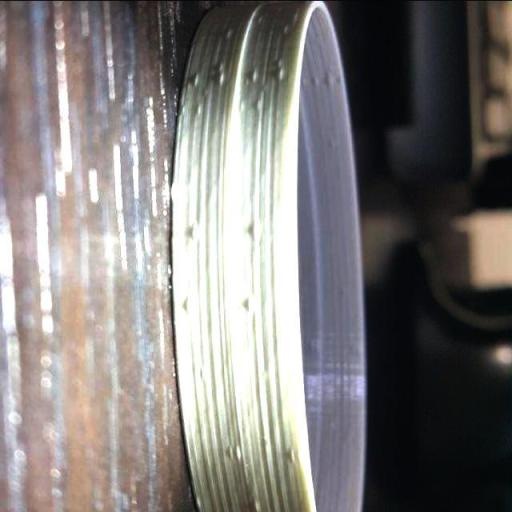blobs: (182, 292, 200, 316), (188, 220, 206, 244), (246, 220, 264, 243), (246, 66, 265, 86), (241, 296, 257, 317), (269, 66, 286, 84), (227, 444, 243, 462), (223, 22, 239, 40), (215, 69, 230, 87), (322, 70, 336, 89), (190, 71, 205, 87), (307, 73, 322, 89), (252, 95, 264, 112), (247, 501, 263, 512)
